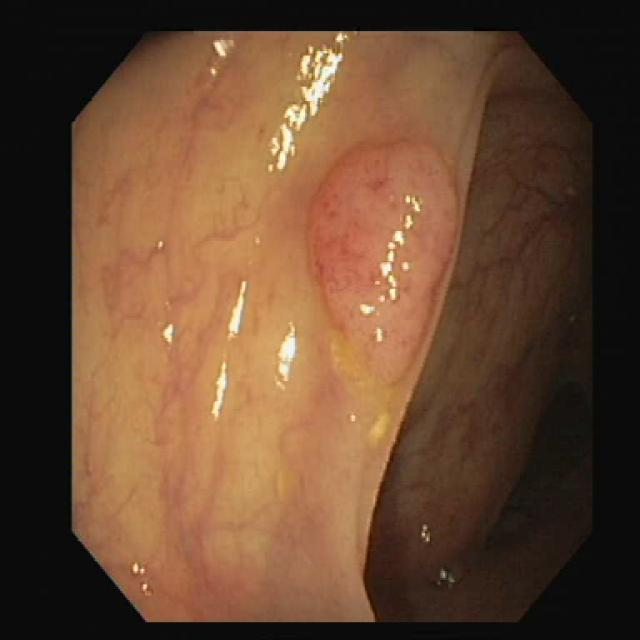tumor: (308, 142, 455, 378)
